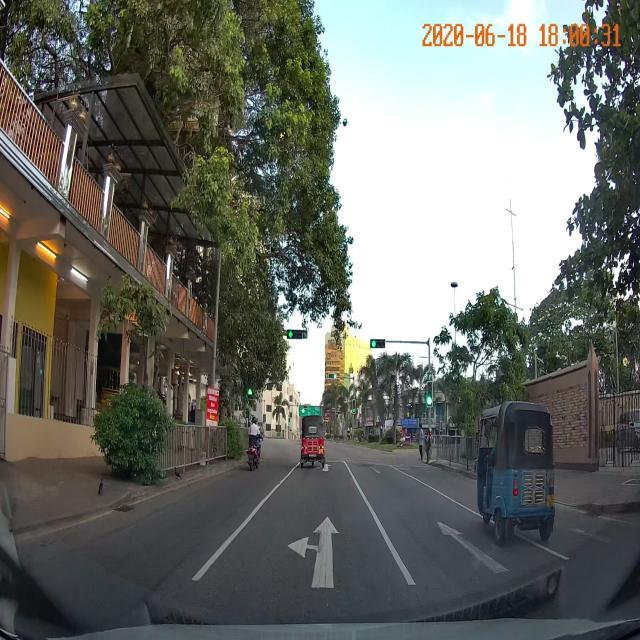forward_lft: (180, 505, 424, 603), (197, 523, 421, 579)
